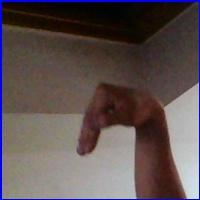A: (72, 80, 160, 167)
